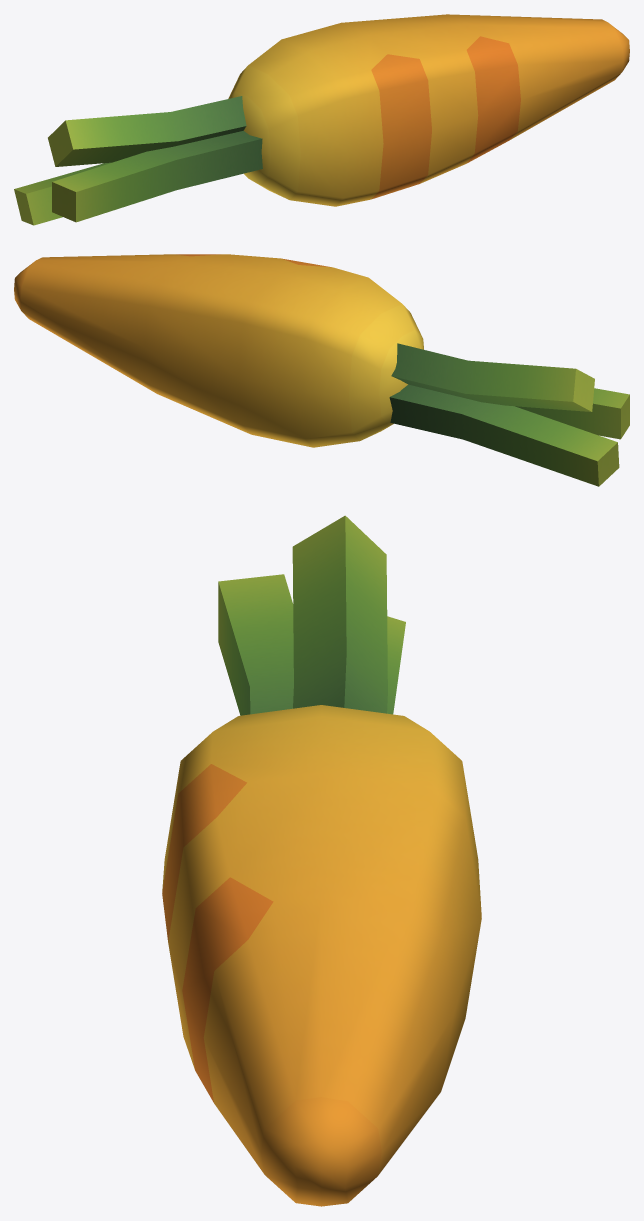
The model's file is carrot.fbx.
3 views of the same model, one above another, from view 1: azimuth 30°, elevation 25°; view 2: azimuth 150°, elevation 25°; view 3: azimuth 270°, elevation 25° (orthographic). The views are drawn at different scales.
Parts seen in each view (by area): view 1: carrot; view 2: carrot; view 3: carrot.
Part boxes in pixels (left/top/right/bottom): carrot: left=14, top=14, right=629, bottom=225; carrot: left=14, top=254, right=629, bottom=486; carrot: left=162, top=515, right=481, bottom=1206.
Bounding box in the file's own units: 66.36 × 15.45 × 15.39.
